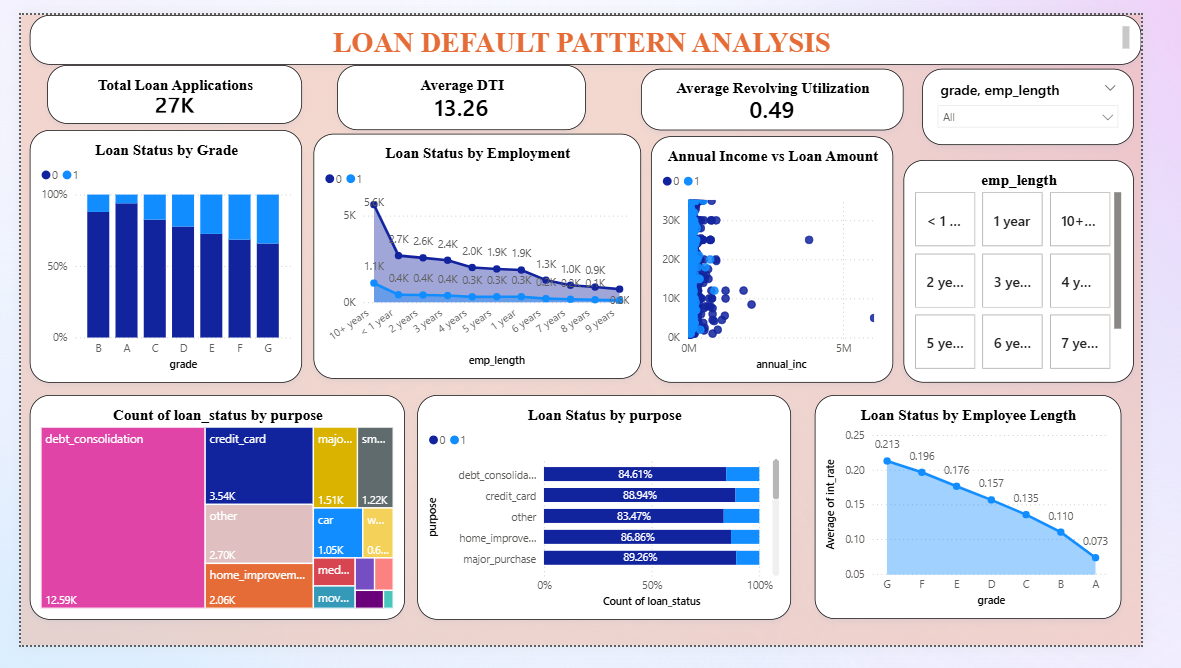

Layout of this report page (visuals, bound fields, positions):
{"tool":"powerbi","page":{"name":"Loan Pattern Analysis","canvas":[1280,720],"ordinal":1},"visuals":[{"type":"textbox","box":[10,0,1270,57.1],"z":0},{"type":"hundredPercentStackedColumnChart","title":"Loan Status by Grade","fields":{"Category":["loan_train_cleaned.grade"],"Y":["CountNonNull(loan_train_cleaned.loan_status)"],"Series":["loan_train_cleaned.loan_status"]},"box":[10,131.4,311.4,288.6],"z":1000},{"type":"areaChart","title":"Loan Status by Employment","fields":{"Series":["loan_train_cleaned.loan_status"],"Category":["loan_train_cleaned.emp_length"],"Y":["CountNonNull(loan_train_cleaned.loan_status)"]},"box":[334.3,135.7,374.3,280],"z":2000},{"type":"lineChart","title":"Loan Status by Employee Length","fields":{"Category":["loan_train_cleaned.grade"],"Y":["Avg(loan_train_cleaned.int_rate)"]},"box":[907.1,434.3,350,255.7],"z":3000},{"type":"hundredPercentStackedBarChart","title":"Loan Status by purpose","fields":{"Category":["loan_train_cleaned.purpose"],"Y":["CountNonNull(loan_train_cleaned.loan_status)"],"Series":["loan_train_cleaned.loan_status"]},"box":[452.9,434.3,427.1,257.1],"z":4000},{"type":"scatterChart","title":"Annual Income vs Loan Amount","fields":{"X":["loan_train_cleaned.annual_inc"],"Series":["loan_train_cleaned.loan_status"],"Y":["loan_train_cleaned.loan_amnt"]},"box":[720,138.6,277.1,281.4],"z":5000},{"type":"treemap","fields":{"Group":["loan_train_cleaned.purpose"],"Values":["CountNonNull(loan_train_cleaned.loan_status)"]},"box":[10,434.3,428.6,257.1],"z":6000},{"type":"card","title":"Total Loan Applications","fields":{"Values":["final_model_comparison.Total Applications"]},"box":[30,57.1,291.4,67.1],"z":7000},{"type":"card","title":"Average Revolving Utilization","fields":{"Values":["final_model_comparison.Average Revolving Utilization"]},"box":[708.6,61.4,300,70],"z":8000},{"type":"card","title":"Average DTI","fields":{"Values":["final_model_comparison.Average DTI"]},"box":[361.4,57.1,284.3,74.3],"z":9000},{"type":"slicer","fields":{"Values":["loan_train_cleaned.grade","loan_train_cleaned.emp_length"]},"box":[1030,61.4,241.4,87.1],"z":10000},{"type":"advancedSlicerVisual","fields":{"Values":["loan_train_cleaned.emp_length"]},"box":[1008.6,165.7,262.9,254.3],"z":11000}]}

Visuals, with their boxes in screenshot pixels (x1, y1, x2, y2), scaled from the page's 1280x720 canvas onto the 1181x668 screenshot:
textbox: <box>9,0,1180,53</box>
"Loan Status by Grade" hundredPercentStackedColumnChart: <box>9,122,297,390</box>
"Loan Status by Employment" areaChart: <box>308,126,654,386</box>
"Loan Status by Employee Length" lineChart: <box>837,403,1160,640</box>
"Loan Status by purpose" hundredPercentStackedBarChart: <box>418,403,812,641</box>
"Annual Income vs Loan Amount" scatterChart: <box>664,129,920,390</box>
treemap - loan_train_cleaned.purpose x CountNonNull(loan_train_cleaned.loan_status): <box>9,403,405,641</box>
"Total Loan Applications" card: <box>28,53,297,115</box>
"Average Revolving Utilization" card: <box>654,57,931,122</box>
"Average DTI" card: <box>333,53,596,122</box>
slicer - loan_train_cleaned.grade x loan_train_cleaned.emp_length: <box>950,57,1173,138</box>
advancedSlicerVisual - loan_train_cleaned.emp_length: <box>931,154,1173,390</box>
